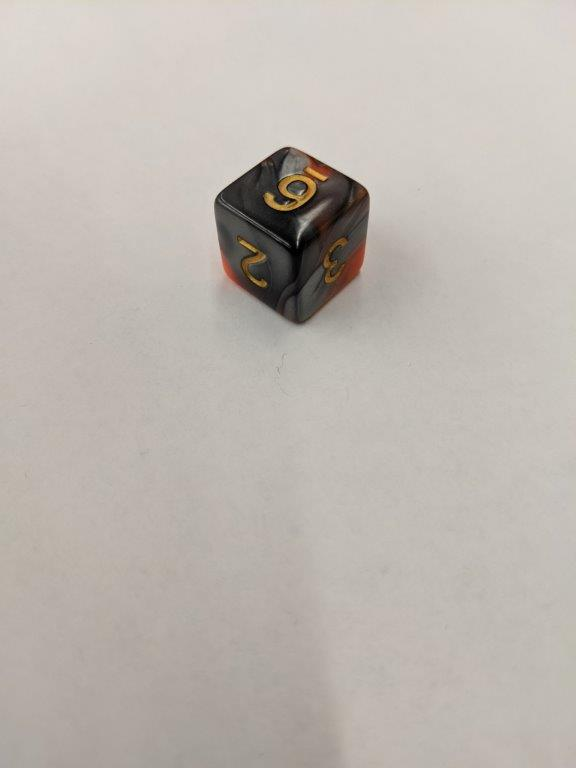d6-6: (215, 144, 374, 324)
